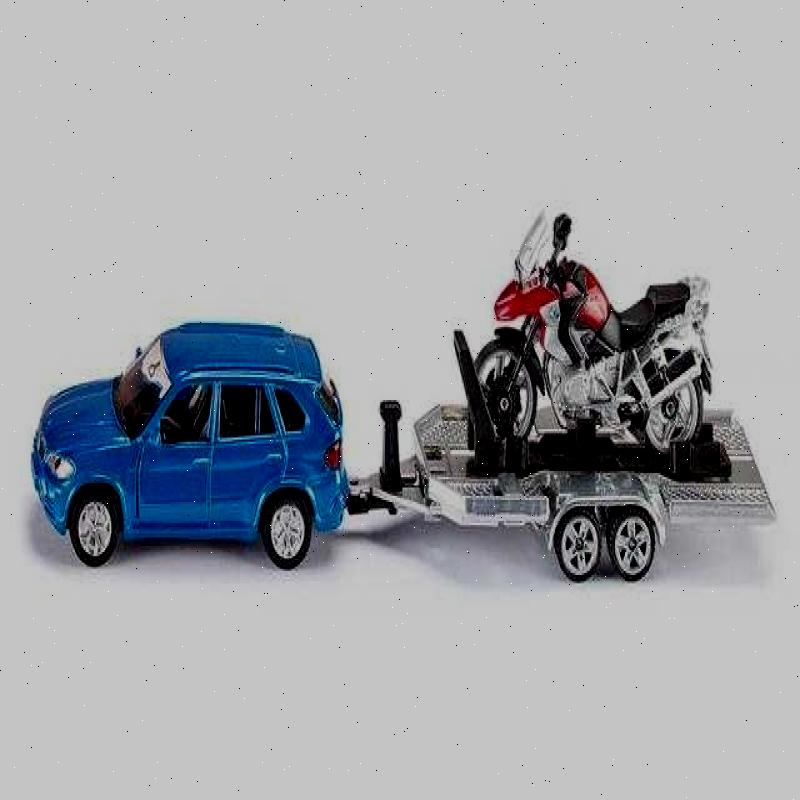bike: (494, 198, 714, 464)
car: (30, 300, 352, 578)
